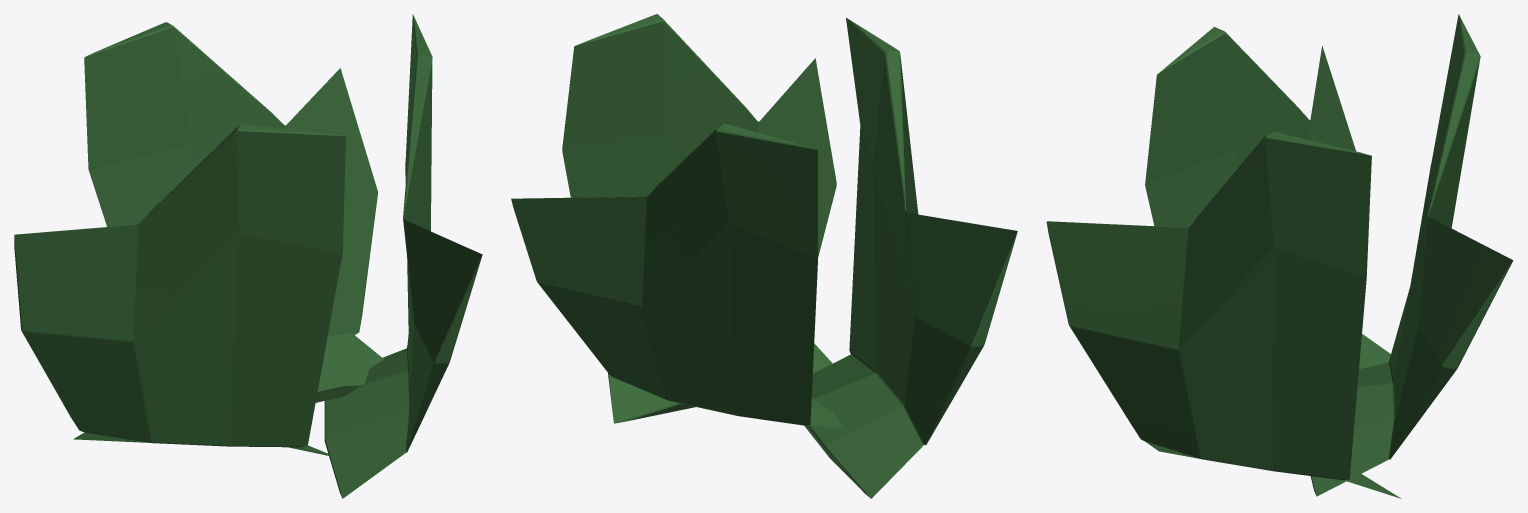
File: Grass_patch.fbx
3 renders of one model, left to right at view 1: azimuth 30°, elevation 25°; view 2: azimuth 150°, elevation 25°; view 3: azimuth 270°, elevation 25°, orthographic. The views are drawn at different scales.
Parts seen in each view (by area): view 1: Grass_3, Grass_1, Grass_2; view 2: Grass_1, Grass_3, Grass_2; view 3: Grass_2, Grass_1, Grass_3.
Boxes of the visible parts, box(x1,y1,x2,y2) form: Grass_3: box(14, 124, 345, 455); Grass_1: box(84, 22, 383, 402); Grass_2: box(324, 14, 482, 498); Grass_1: box(511, 123, 843, 429); Grass_3: box(804, 18, 1017, 498); Grass_2: box(562, 14, 836, 423); Grass_2: box(1046, 131, 1401, 498); Grass_1: box(1310, 14, 1513, 496); Grass_3: box(1145, 27, 1390, 369).
Bounding box in the file's own units: 0.6145 × 0.499 × 0.5461.
